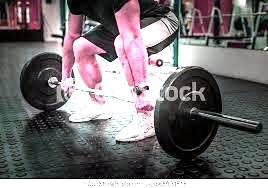Barbell: (251, 121, 266, 137)
